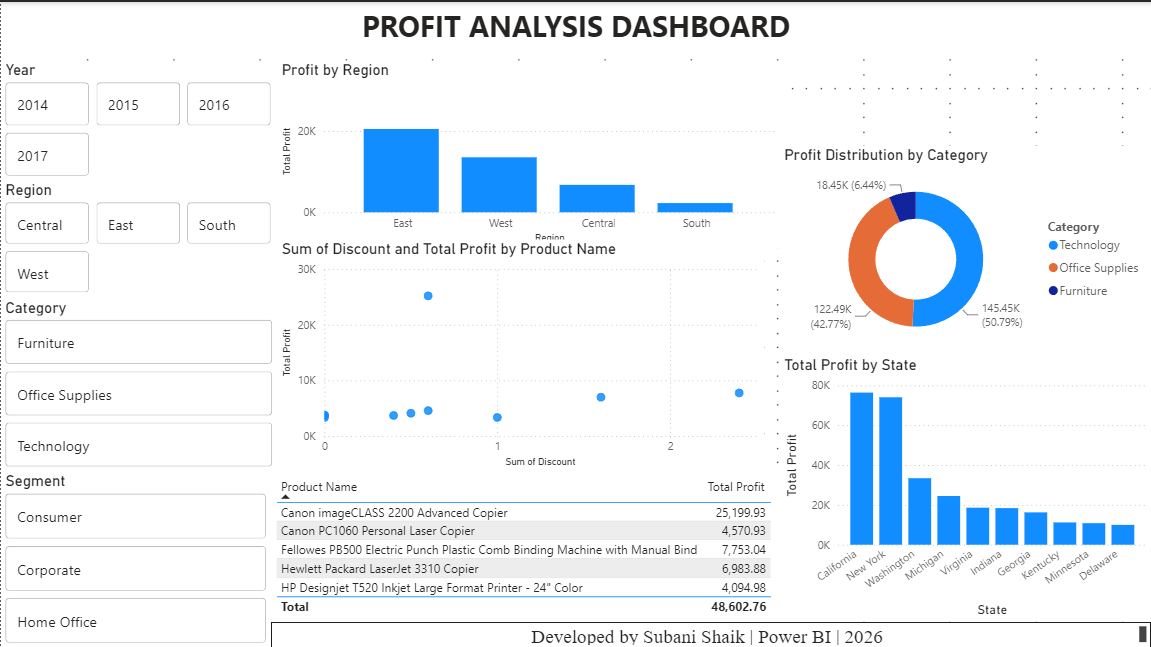

This screenshot's page, from the dashboard's own definition file:
{"tool":"powerbi","page":{"name":"Profit Analysis","canvas":[1280,720],"ordinal":3},"visuals":[{"type":"textbox","box":[0,0,1280,55.7],"z":0},{"type":"clusteredColumnChart","title":"Profit by Region","fields":{"Category":["Superstore.Region"],"Y":["Superstore.Total Profit"]},"box":[307.5,65.4,559.3,208.7],"z":1000},{"type":"donutChart","title":"Profit Distribution by Category","fields":{"Y":["Superstore.Total Profit"],"Category":["Superstore.Category"]},"box":[866.8,160,413.2,233.7],"z":2000},{"type":"clusteredColumnChart","fields":{"Category":["Superstore.State"],"Y":["Superstore.Total Profit"]},"box":[866.8,393.7,413.2,296.3],"z":3000},{"type":"scatterChart","fields":{"X":["Sum(Superstore.Discount)"],"Y":["Superstore.Total Profit"],"Category":["Superstore.Product Name"]},"box":[307.5,264.3,542.6,258.8],"z":4000},{"type":"advancedSlicerVisual","fields":{"Values":["Superstore.Year"]},"box":[0,65.4,307.5,133.6],"z":5000},{"type":"advancedSlicerVisual","fields":{"Values":["Superstore.Region"]},"box":[0,199,307.5,130.8],"z":6000},{"type":"advancedSlicerVisual","fields":{"Values":["Superstore.Category"]},"box":[0,329.7,307.5,193.4],"z":7000},{"type":"advancedSlicerVisual","fields":{"Values":["Superstore.Segment"]},"box":[0,523.1,300.5,197.6],"z":8000},{"type":"tableEx","fields":{"Values":["Superstore.Product Name","Superstore.Total Profit"]},"box":[300.5,523.1,566.3,167],"z":8001},{"type":"textbox","box":[300.5,690.1,979.5,30.6],"z":8002}]}

Visuals, with their boxes in screenshot pixels (x1, y1, x2, y2), scaled from the page's 1280x720 canvas onto the 1151x647 screenshot:
textbox: crop(0, 0, 1150, 50)
"Profit by Region" clusteredColumnChart: crop(277, 59, 779, 246)
"Profit Distribution by Category" donutChart: crop(779, 144, 1150, 354)
clusteredColumnChart - Superstore.State x Superstore.Total Profit: crop(779, 354, 1150, 620)
scatterChart - Sum(Superstore.Discount) x Superstore.Total Profit: crop(277, 238, 764, 470)
advancedSlicerVisual - Superstore.Year: crop(0, 59, 277, 179)
advancedSlicerVisual - Superstore.Region: crop(0, 179, 277, 296)
advancedSlicerVisual - Superstore.Category: crop(0, 296, 277, 470)
advancedSlicerVisual - Superstore.Segment: crop(0, 470, 270, 646)
tableEx - Superstore.Product Name x Superstore.Total Profit: crop(270, 470, 779, 620)
textbox: crop(270, 620, 1150, 646)
